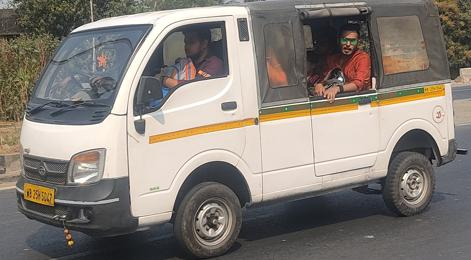Auto: (16, 2, 453, 246)
